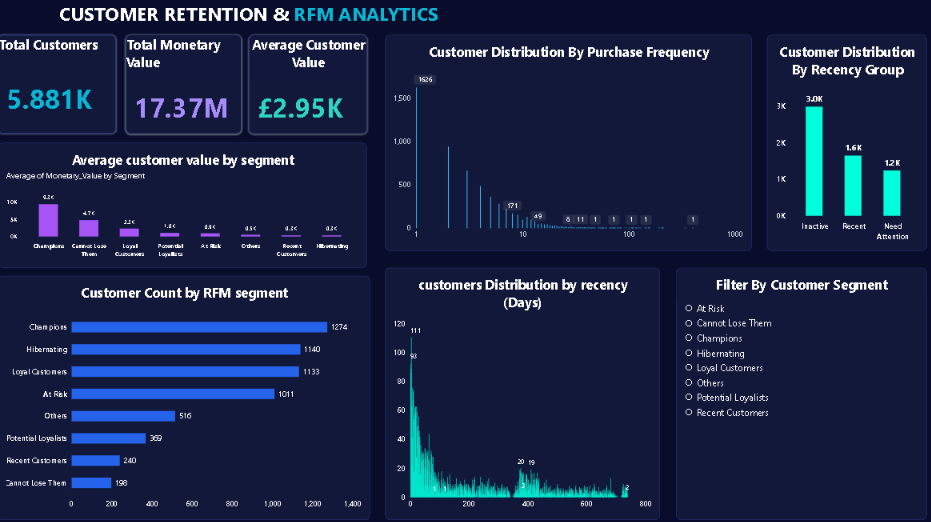

The dashboard page shown, as its layout file describes it:
{"tool":"powerbi","page":{"name":"Customer Retention Dashboard","canvas":[1920,1080],"ordinal":0},"visuals":[{"type":"cardVisual","title":"Total Customers","fields":{"Data":["Count(online_retail_customer_segments.Customer ID)"]},"box":[12.1,84.9,238.5,200.1],"z":0},{"type":"cardVisual","title":"Total Monetary Value ","fields":{"Data":["Sum(online_retail_customer_segments.Monetary_Value)"]},"box":[270.9,84.9,232.5,200.1],"z":1000},{"type":"clusteredBarChart","title":"Customer Count by RFM segment","fields":{"Category":["online_retail_customer_segments.Segment"],"Y":["Count(online_retail_customer_segments.Customer ID)"]},"box":[12.1,572.1,752,493.2],"z":2000},{"type":"clusteredColumnChart","title":"Average customer value by segment","fields":{"Category":["online_retail_customer_segments.Segment"],"Y":["Avg(online_retail_customer_segments.Monetary_Value)"]},"box":[12.1,303.2,745.9,252.7],"z":3000},{"type":"clusteredColumnChart","title":"Customer Distribution By Purchase Frequency","fields":{"Category":["online_retail_customer_segments.Frequency"],"Y":["Count(online_retail_customer_segments.Customer ID)"]},"box":[794.4,84.9,741.9,436.6],"z":4000},{"type":"clusteredColumnChart","title":"customers Distribution by recency (Days)","fields":{"Category":["online_retail_customer_segments.Recency_Days"],"Y":["Count(online_retail_customer_segments.Customer ID)"]},"box":[794.4,555.9,555.9,509.4],"z":5000},{"type":"clusteredColumnChart","title":"Customer Distribution By Recency Group","fields":{"Category":["online_retail_customer_segments.Recency Group"],"Y":["Count(online_retail_customer_segments.Customer ID)"]},"box":[1566.7,84.9,323.4,436.6],"z":6000},{"type":"textbox","box":[1625,572,285,494],"z":7000},{"type":"textbox","box":[100,100,300,300],"z":8000},{"type":"textbox","box":[100,100,300,300],"z":9000},{"type":"textbox","box":[100,100,300,300],"z":10000},{"type":"textbox","box":[100,100,300,300],"z":11000},{"type":"textbox","box":[100,100,300,300],"z":12000},{"type":"textbox","box":[100,100,300,300],"z":13000},{"type":"textbox","box":[100,100,300,300],"z":14000},{"type":"textbox","box":[100,100,300,300],"z":15000},{"type":"textbox","box":[100,100,300,300],"z":16000},{"type":"textbox","box":[99.2,99.2,301.5,97.1],"z":17000},{"type":"textbox","box":[26.3,16.2,985.5,58.7],"z":18000},{"type":"listSlicer","title":" Filter By Customer Segment","fields":{"Values":["online_retail_customer_segments.Segment"]},"box":[1382.7,555.9,507.4,509.4],"z":19000},{"type":"cardVisual","title":"Average Customer Value","fields":{"Data":["online_retail_customer_segments.Average Customer Value"]},"box":[519.5,84.9,238.5,200.1],"z":20000}]}

Visuals, with their boxes in screenshot pixels (x1, y1, x2, y2), scaled from the page's 1920x1080 canvas onto the 931x522 screenshot:
"Total Customers" cardVisual: bbox(6, 41, 122, 138)
"Total Monetary Value " cardVisual: bbox(131, 41, 244, 138)
"Customer Count by RFM segment" clusteredBarChart: bbox(6, 277, 371, 515)
"Average customer value by segment" clusteredColumnChart: bbox(6, 147, 368, 269)
"Customer Distribution By Purchase Frequency" clusteredColumnChart: bbox(385, 41, 745, 252)
"customers Distribution by recency (Days)" clusteredColumnChart: bbox(385, 269, 655, 515)
"Customer Distribution By Recency Group" clusteredColumnChart: bbox(760, 41, 917, 252)
textbox: bbox(788, 276, 926, 515)
textbox: bbox(48, 48, 194, 193)
textbox: bbox(48, 48, 194, 193)
textbox: bbox(48, 48, 194, 193)
textbox: bbox(48, 48, 194, 193)
textbox: bbox(48, 48, 194, 193)
textbox: bbox(48, 48, 194, 193)
textbox: bbox(48, 48, 194, 193)
textbox: bbox(48, 48, 194, 193)
textbox: bbox(48, 48, 194, 193)
textbox: bbox(48, 48, 194, 95)
textbox: bbox(13, 8, 491, 36)
" Filter By Customer Segment" listSlicer: bbox(670, 269, 917, 515)
"Average Customer Value" cardVisual: bbox(252, 41, 368, 138)
